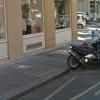Motorcycle: (58, 41, 100, 74)
